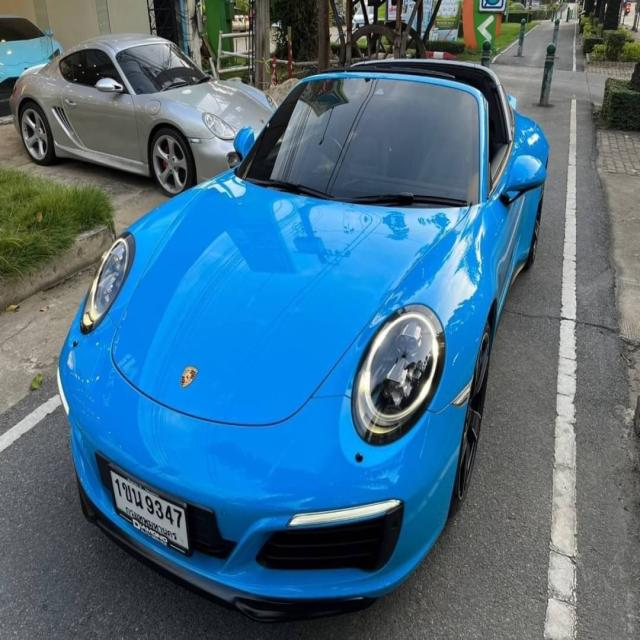license_plate: (102, 451, 202, 564)
